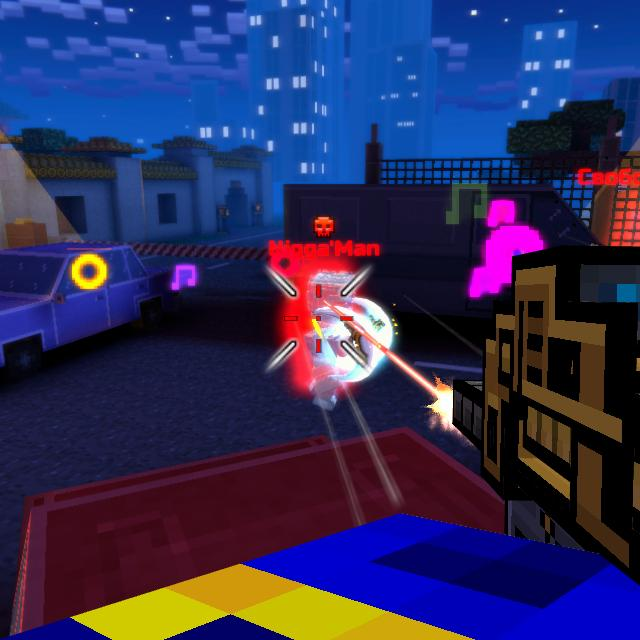Enemy: (301, 271, 361, 373)
